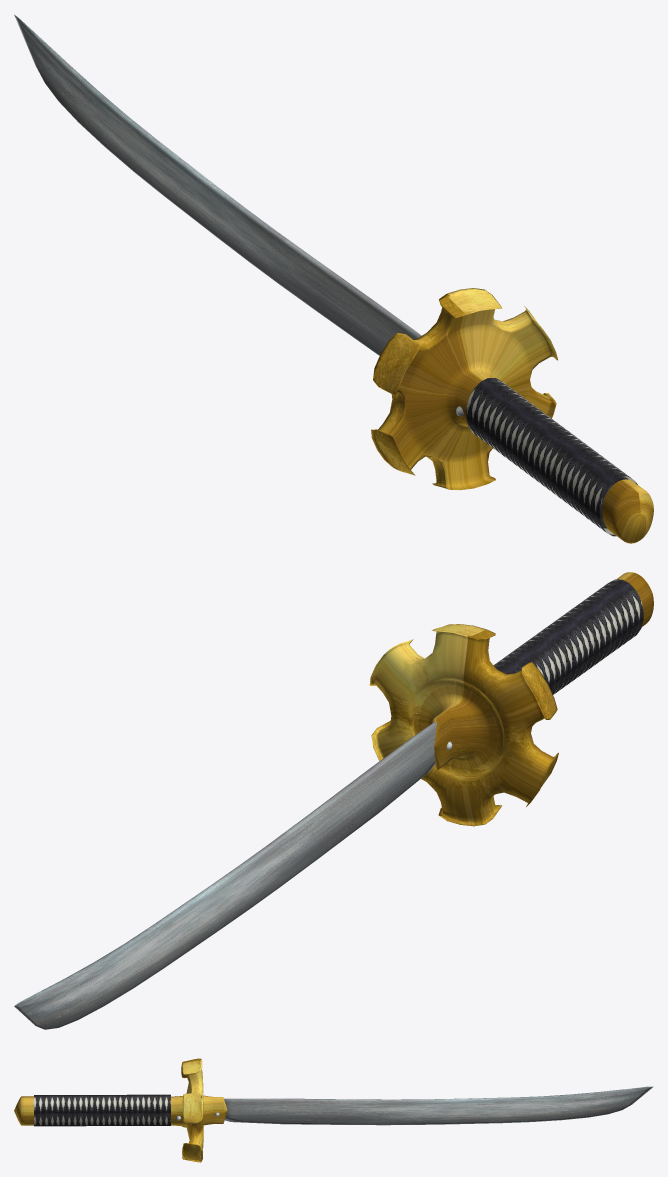
Rendered from katana.FBX.
3 views of the same model, one above another, from view 1: azimuth 30°, elevation 25°; view 2: azimuth 150°, elevation 25°; view 3: azimuth 270°, elevation 25° (orthographic). The views are drawn at different scales.
Visible parts, largest first — view 1: Cylinder001, Plane001, Cylinder002; view 2: Cylinder001, Plane001, Cylinder002; view 3: Plane001, Cylinder002, Cylinder001.
Boxes of the visible parts, x1,y1,x2,y2 form: Cylinder001: (371,288,653,543); Plane001: (14,15,421,355); Cylinder002: (466,378,637,536); Cylinder001: (369,572,653,826); Plane001: (14,721,436,1029); Cylinder002: (493,579,643,694); Plane001: (224,1086,653,1125); Cylinder002: (33,1094,171,1126); Cylinder001: (14,1058,227,1162).
Bounding box in the file's own units: 14.91 × 15.36 × 91.86.
Materials: 4 (4 with a texture image).
